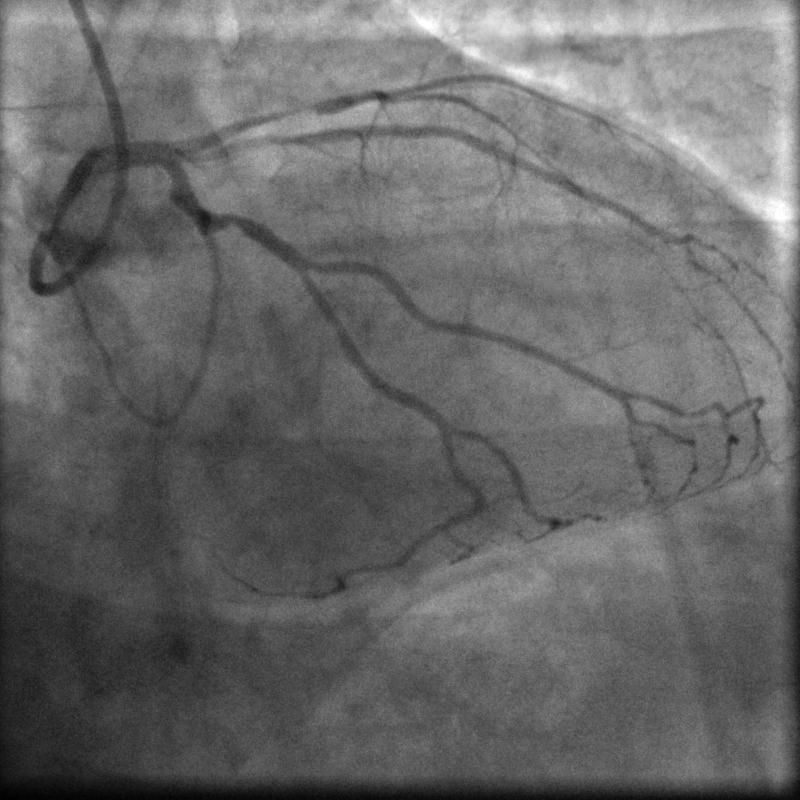Stenosis: (217, 208, 246, 231)
